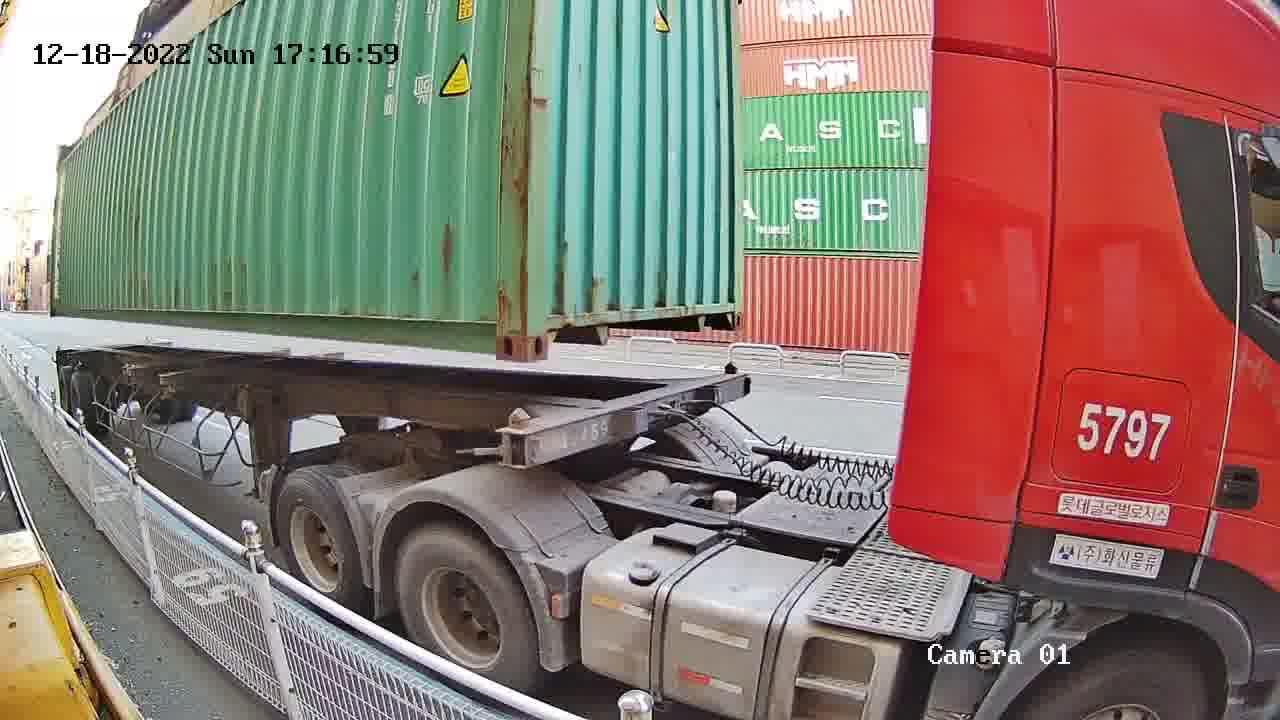Chassis: (502, 369, 750, 468)
Cone: (498, 404, 531, 464), (720, 360, 746, 400)
Hole_L: (523, 295, 575, 362)
Hole_R: (464, 297, 524, 357), (711, 286, 743, 330)
Tire: (399, 528, 531, 683), (279, 477, 357, 600)
